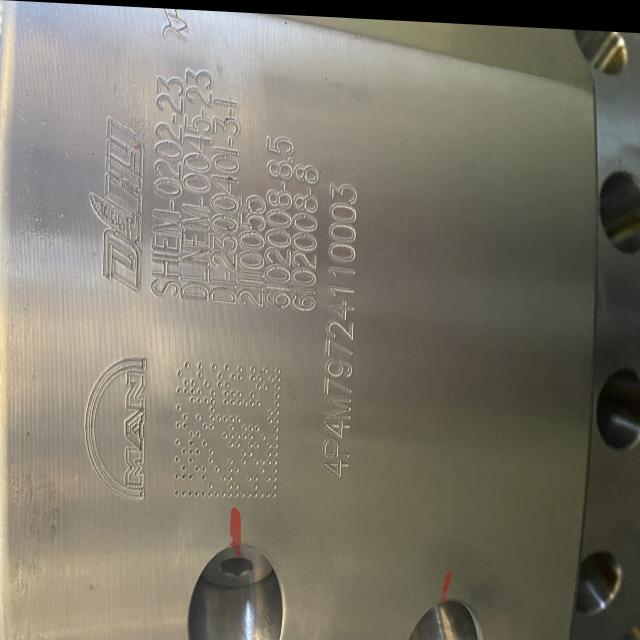dmc: (175, 360, 280, 494)
